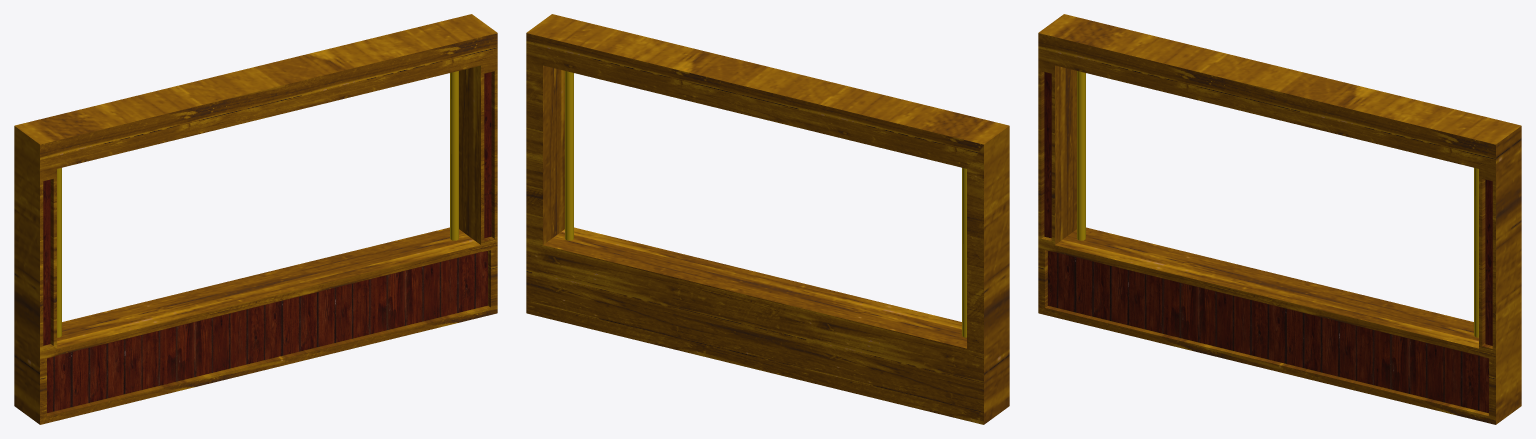
The model's file is JanelaOW.fbx.
The picture shows the model from 3 angles, left to right: view 1: azimuth 30°, elevation 25°; view 2: azimuth 150°, elevation 25°; view 3: azimuth 330°, elevation 25°; orthographic projection.
Parts seen in each view (by area): view 1: JanelaVelhoOeste; view 2: JanelaVelhoOeste; view 3: JanelaVelhoOeste.
Boxes of the visible parts, <box> form: JanelaVelhoOeste: <box>14,14,497,424</box>; JanelaVelhoOeste: <box>526,14,1009,424</box>; JanelaVelhoOeste: <box>1038,14,1521,424</box>.
Bounding box in the file's own units: 525 × 307 × 51.52.
